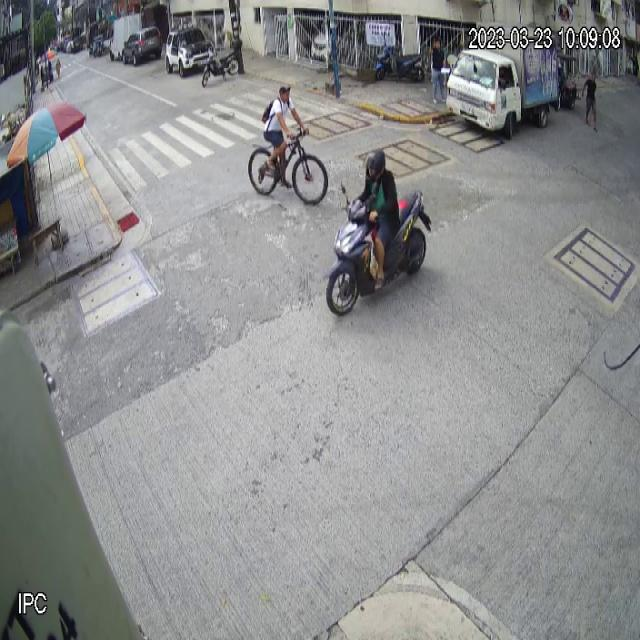Motorcycle: (325, 179, 433, 317)
Truck: (446, 33, 560, 138)
